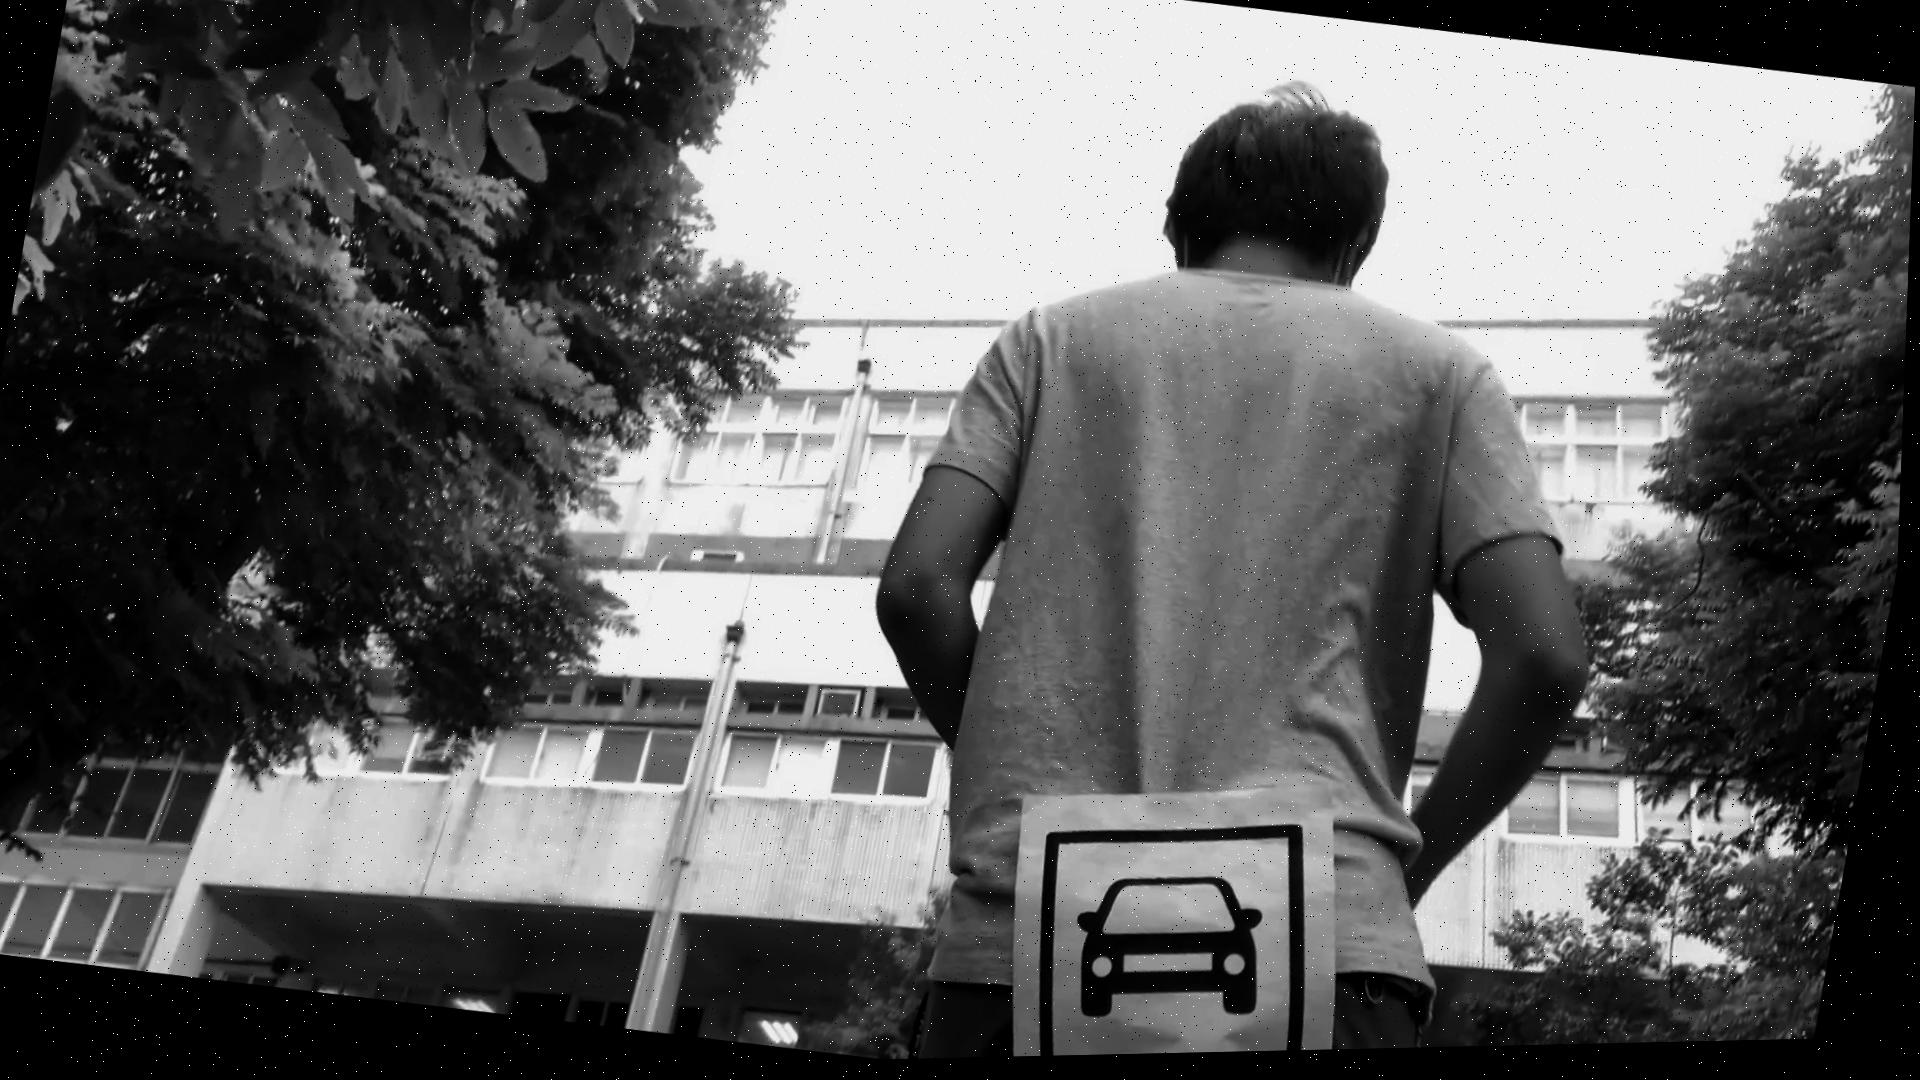car_img: (1013, 794, 1350, 1062)
